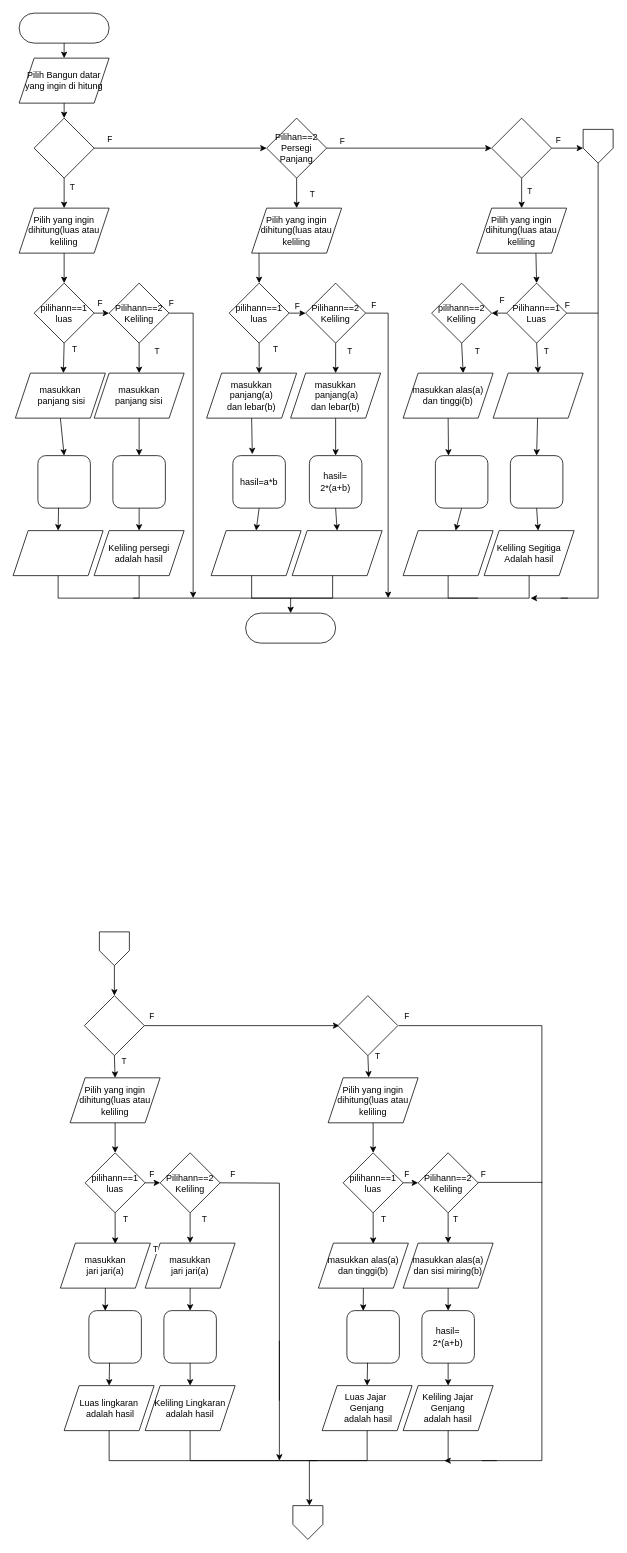
Some shapes in this 627 by 1553 pixel diagram are drawn without their labels. The box of each missing label's shape, as (x1, y1, x2, y2) in pixels:
End: (245, 612, 336, 643)
hasil= (a*b)/2: (435, 455, 488, 508)
hasil= 2*(3.14*a): (163, 1310, 216, 1363)
hasil= 3.14*(a**2): (88, 1310, 141, 1363)
hasil= a*b: (346, 1310, 399, 1363)
hasil= a+b+c: (510, 455, 563, 508)
hasil=a*4: (112, 455, 165, 508)
hasil=a*a: (37, 455, 90, 508)
Keliling Persegi Panjang adalah hasil: (291, 530, 382, 576)
Luas persegi adalah hasil: (12, 530, 103, 576)
Luas persegi panjang adalah hasil: (210, 530, 301, 576)
Luas Segitiga adalah hasil: (402, 530, 493, 576)
masukkan sisi a(ab) sisi b(bc) dan sisi c(ac): (492, 372, 583, 418)
Pilihan==1 persegi: (33, 117, 94, 178)
Pilihan==3 Segitiga: (491, 117, 552, 178)
Pilihan==4 Lingkaran: (84, 995, 144, 1056)
Pilihan==5 Jajar Genjang: (337, 995, 398, 1056)
Start: (18, 12, 109, 43)
